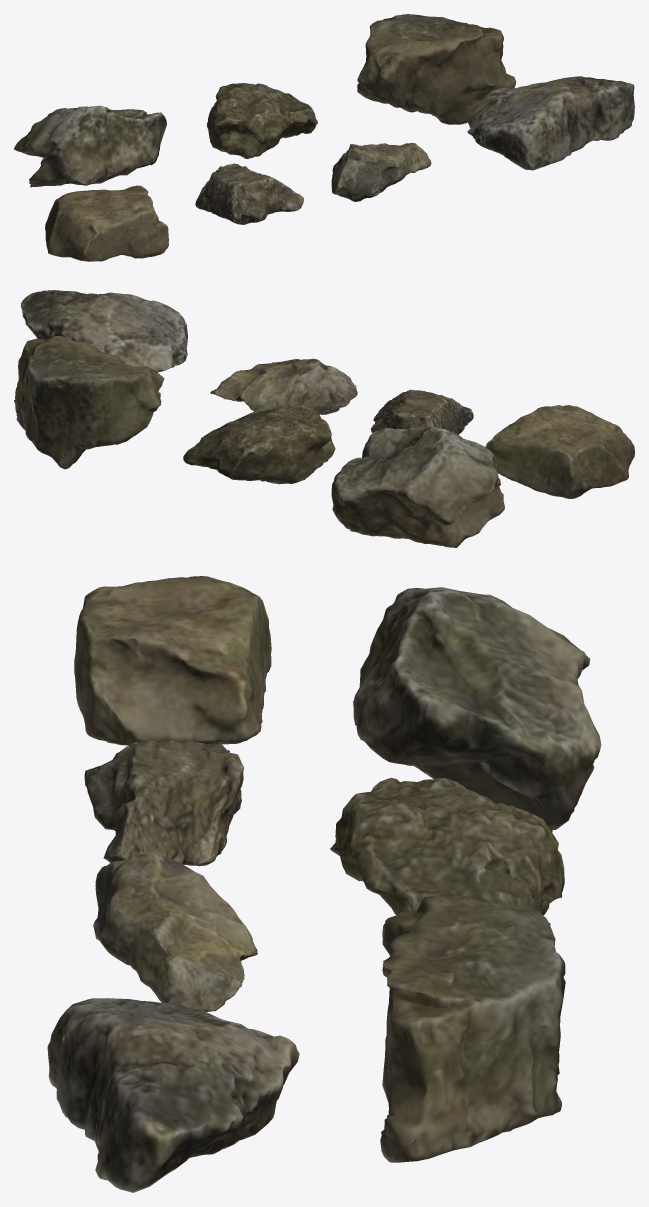
File: rock_moss_set_02.glb
3 views of the same model, one above another, from view 1: azimuth 30°, elevation 25°; view 2: azimuth 150°, elevation 25°; view 3: azimuth 270°, elevation 25° (orthographic). The views are drawn at different scales.
Visible parts, largest first — view 1: rock_moss_set_02_rock13, rock_moss_set_02_rock10, rock_moss_set_02_rock11, rock_moss_set_02_rock07, rock_moss_set_02_rock12, rock_moss_set_02_rock08, rock_moss_set_02_rock09; view 2: rock_moss_set_02_rock11, rock_moss_set_02_rock13, rock_moss_set_02_rock07, rock_moss_set_02_rock10, rock_moss_set_02_rock12, rock_moss_set_02_rock09, rock_moss_set_02_rock08; view 3: rock_moss_set_02_rock13, rock_moss_set_02_rock11, rock_moss_set_02_rock10, rock_moss_set_02_rock07, rock_moss_set_02_rock12, rock_moss_set_02_rock09, rock_moss_set_02_rock08.
Boxes of the visible parts, <box> form: rock_moss_set_02_rock13: <box>357,14,516,124</box>; rock_moss_set_02_rock10: <box>467,76,634,170</box>; rock_moss_set_02_rock11: <box>14,105,166,187</box>; rock_moss_set_02_rock07: <box>45,185,168,261</box>; rock_moss_set_02_rock12: <box>206,83,317,158</box>; rock_moss_set_02_rock08: <box>195,163,303,224</box>; rock_moss_set_02_rock09: <box>331,143,431,201</box>; rock_moss_set_02_rock11: <box>331,426,504,547</box>; rock_moss_set_02_rock13: <box>14,336,164,469</box>; rock_moss_set_02_rock07: <box>485,405,634,498</box>; rock_moss_set_02_rock10: <box>21,290,187,372</box>; rock_moss_set_02_rock12: <box>183,405,335,484</box>; rock_moss_set_02_rock09: <box>210,358,357,414</box>; rock_moss_set_02_rock08: <box>370,389,473,434</box>; rock_moss_set_02_rock13: <box>380,894,565,1162</box>; rock_moss_set_02_rock11: <box>353,587,601,832</box>; rock_moss_set_02_rock10: <box>47,998,299,1192</box>; rock_moss_set_02_rock07: <box>74,576,271,745</box>; rock_moss_set_02_rock12: <box>330,777,564,925</box>; rock_moss_set_02_rock09: <box>93,850,257,1011</box>; rock_moss_set_02_rock08: <box>84,740,244,866</box>.
Size of the model in its own units: 8.28 by 1.36 by 3.41.
Materials: 1 (1 with a texture image).
